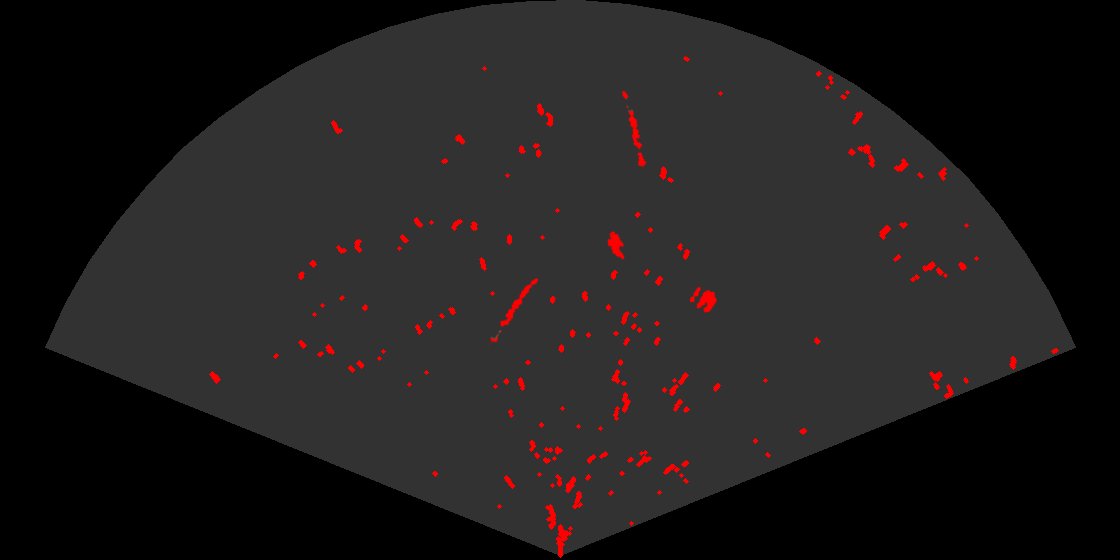AUV: (606, 230, 626, 261)
ball: (688, 285, 719, 315)
chain: (486, 276, 540, 347), (620, 88, 648, 169)
